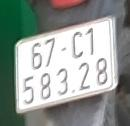1: (85, 27, 97, 58)
2: (76, 61, 91, 91)
3: (55, 68, 70, 95)
5: (22, 75, 35, 105)
6: (29, 39, 44, 72)
7: (44, 38, 57, 68)
8: (93, 56, 109, 86), (39, 71, 54, 100)
C: (70, 31, 86, 60)
